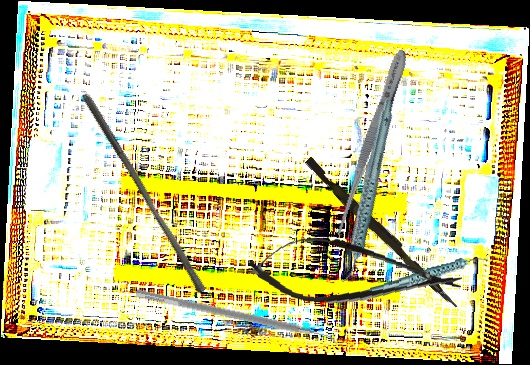Dressing Forceps: (333, 46, 415, 242)
Handpiece: (304, 98, 429, 285), (349, 255, 491, 303)
Micro Scissor: (246, 229, 465, 317)
Pusher: (72, 90, 215, 296), (301, 156, 464, 310)
Spatula Surgical: (133, 288, 340, 349)
